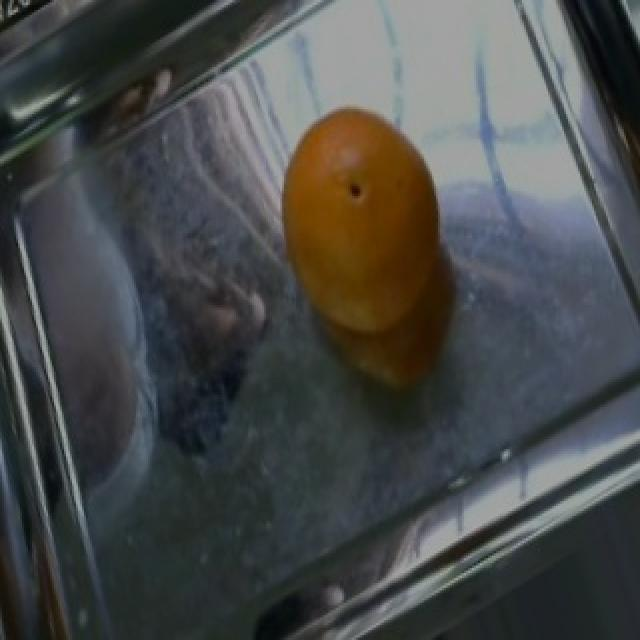Fruit: (248, 89, 468, 355), (0, 0, 158, 74)
